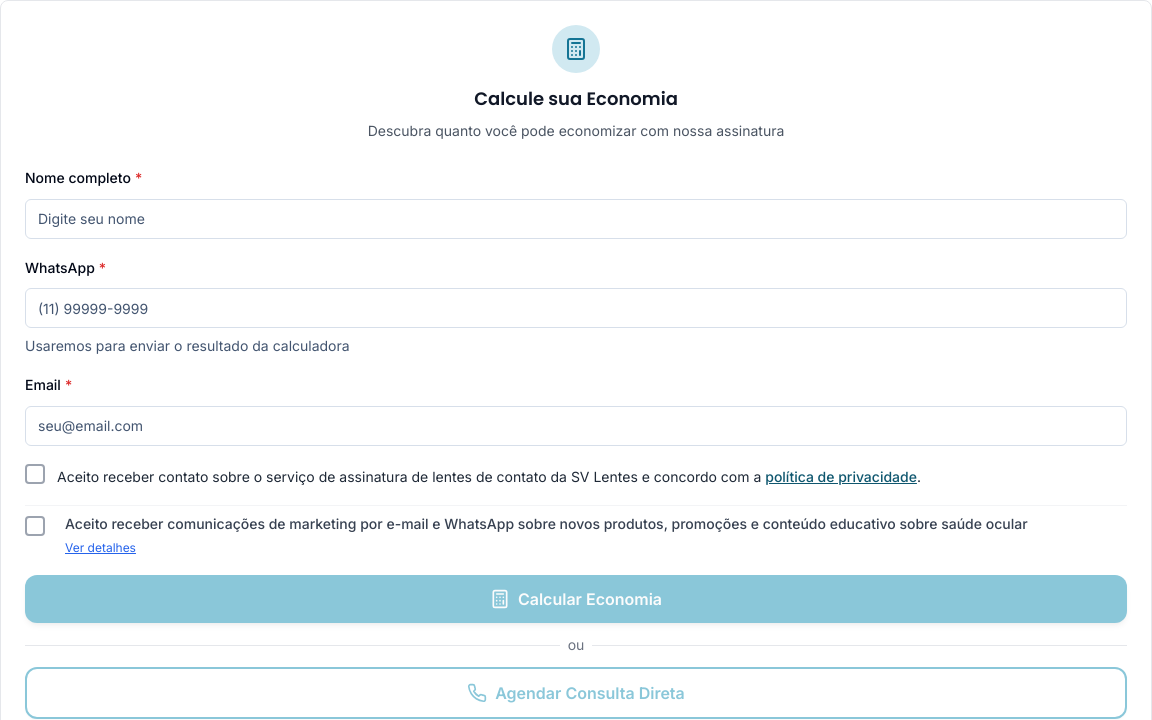
LeadCaptureForm › Hero variant (default) › formats phone number correctly
This screenshot has width=1152, height=720.
# Type a phone number
Type "11999999999" into the field with placeholder "(11) 99999-9999" at (576, 308), box [25,288,1127,328]
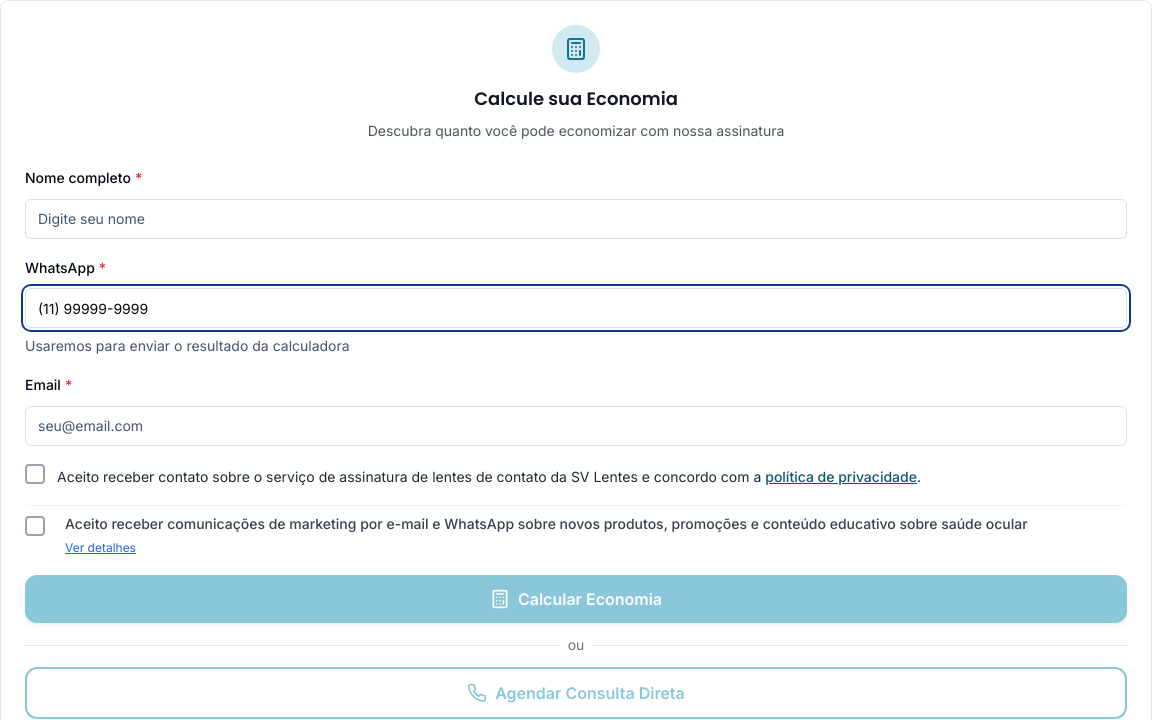
Expected: the field with placeholder "(11) 99999-9999" holds "(11) 99999-9999", [25,288,1127,328]
